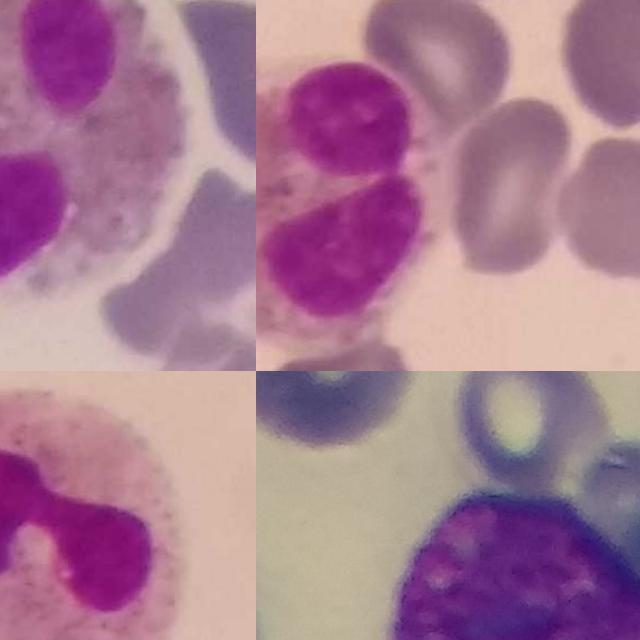Basophil: (390, 488, 640, 640)
Eosinophil: (0, 0, 183, 304), (256, 55, 443, 341), (0, 391, 182, 640)
